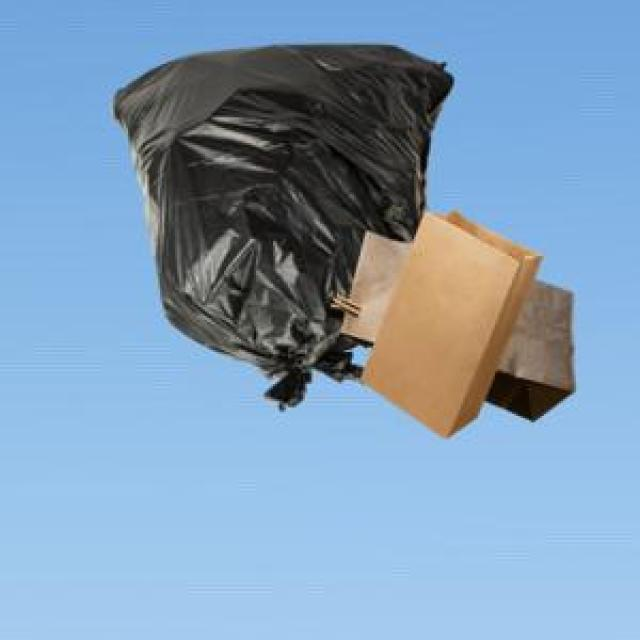miscellaneous trash: (109, 41, 448, 408)
paper: (356, 207, 538, 433), (329, 228, 449, 380), (449, 275, 572, 416)
